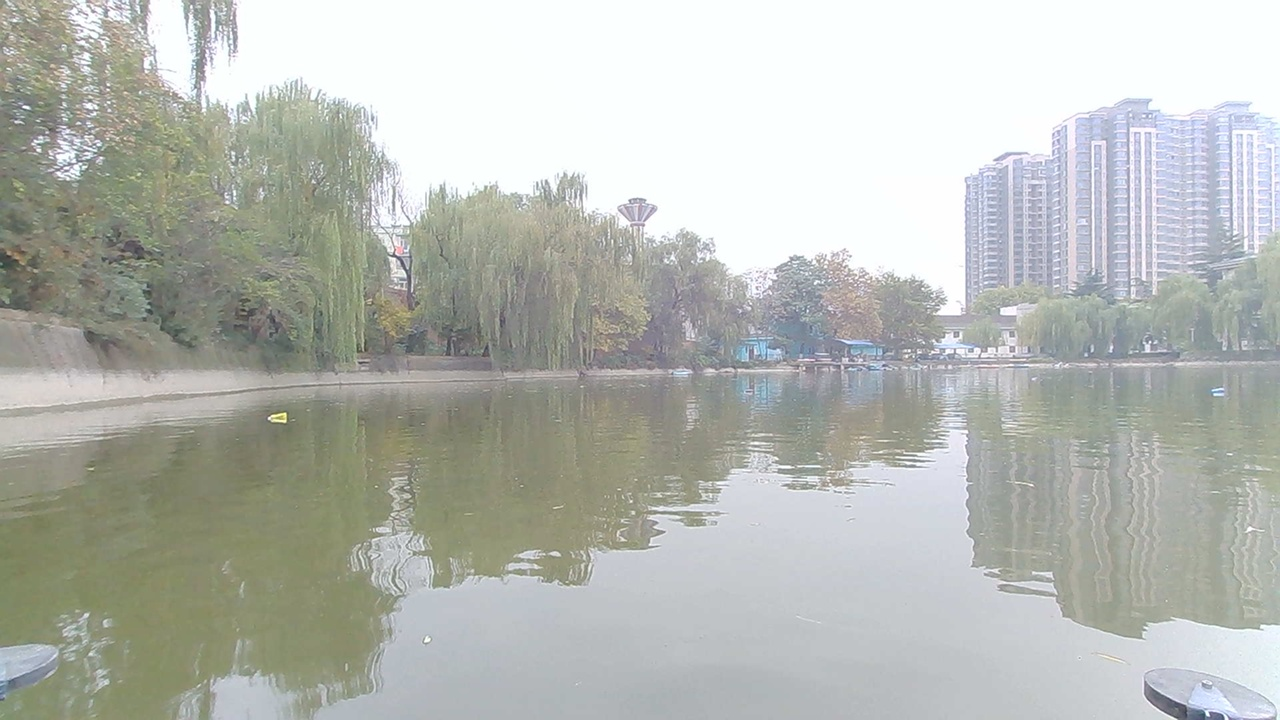bottle: (264, 408, 298, 431), (1200, 380, 1231, 403), (735, 387, 764, 402)
